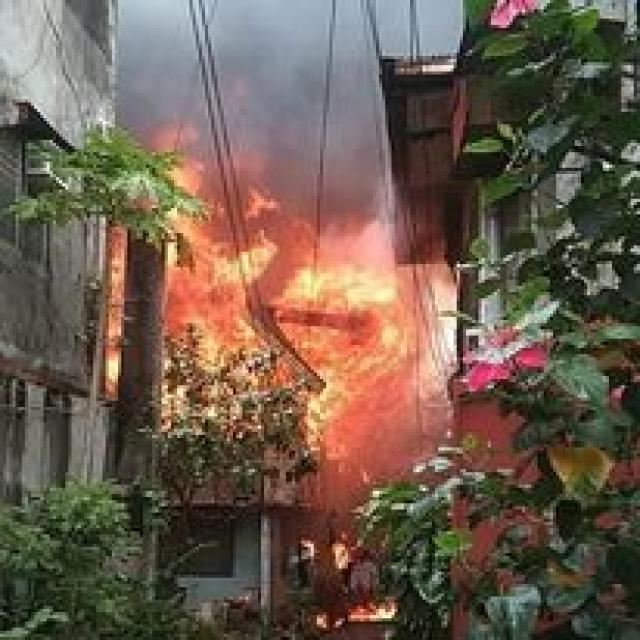Fire: (122, 160, 383, 437)
Smoke: (124, 3, 395, 165)
